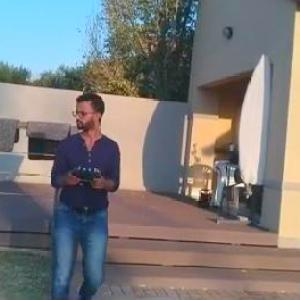follow: (46, 91, 126, 299)
